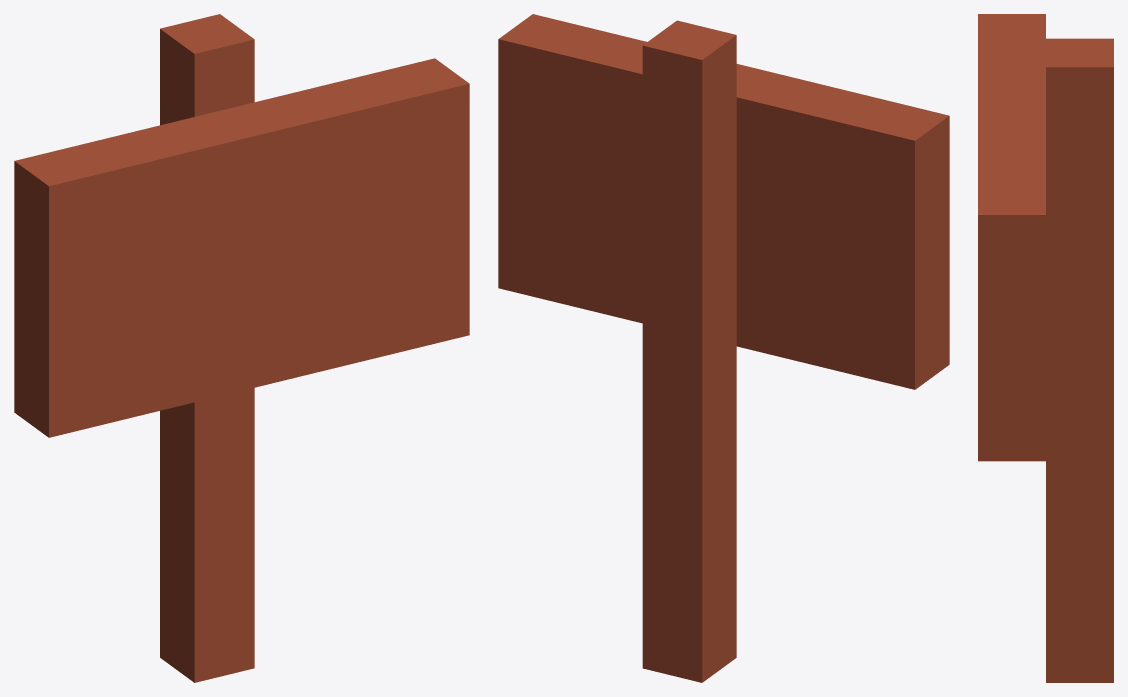
The model's file is signpost_a.obj.
The picture shows the model from 3 angles, left to right: view 1: azimuth 30°, elevation 25°; view 2: azimuth 150°, elevation 25°; view 3: azimuth 270°, elevation 25°; orthographic projection. The views are drawn at different scales.
Bounding box in the file's own units: 0.7 × 1 × 0.2.
Materials: 1 (1 with a texture image).
